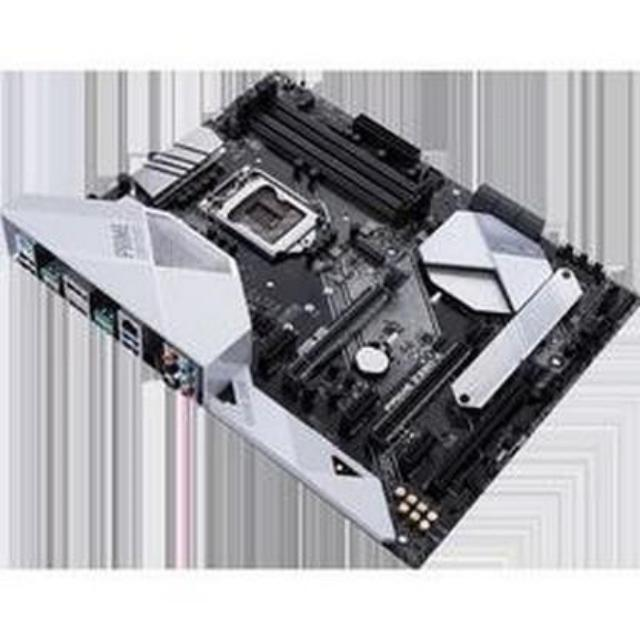Mainboard: (8, 73, 637, 564)
